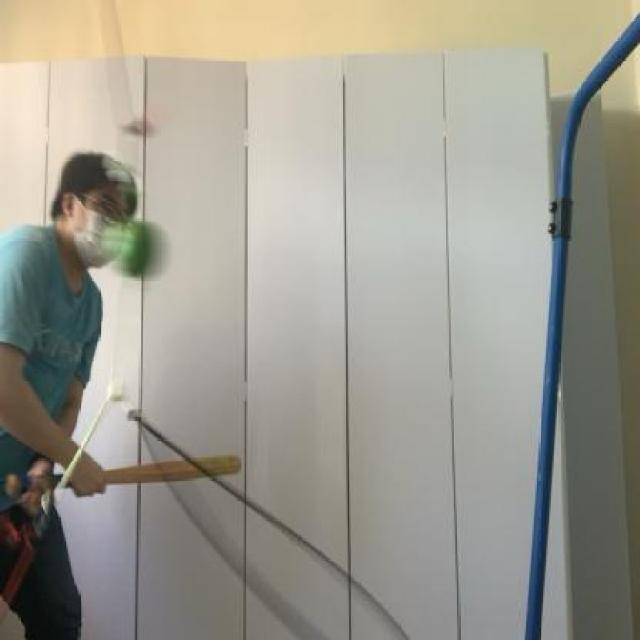baseball: (91, 204, 169, 288)
